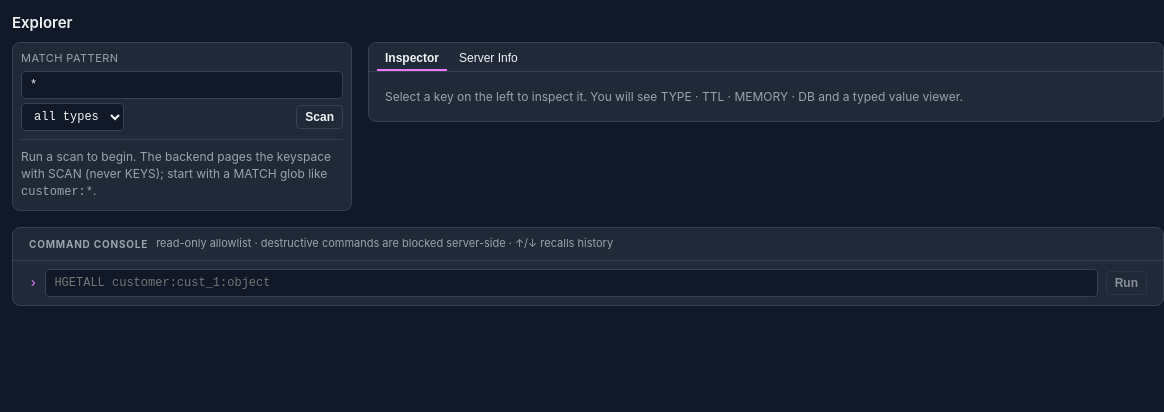
Test: command console (no force, no escalation, no live feed) › runs an allowlisted command and renders its result honestly
In the field with test id "explorer-command-input": (572, 283) [45, 269, 1098, 297], type "PING"
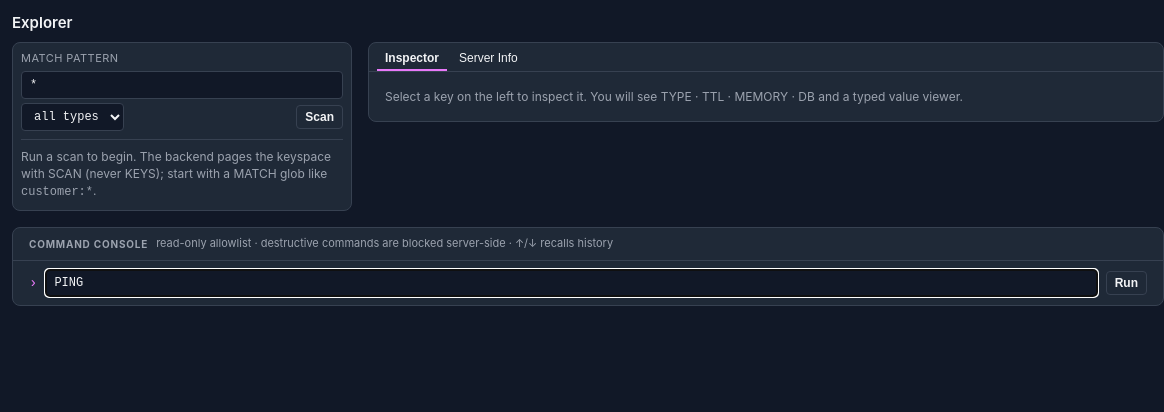
Click the button with test id "explorer-command-run": (1126, 283) [1106, 271, 1147, 295]
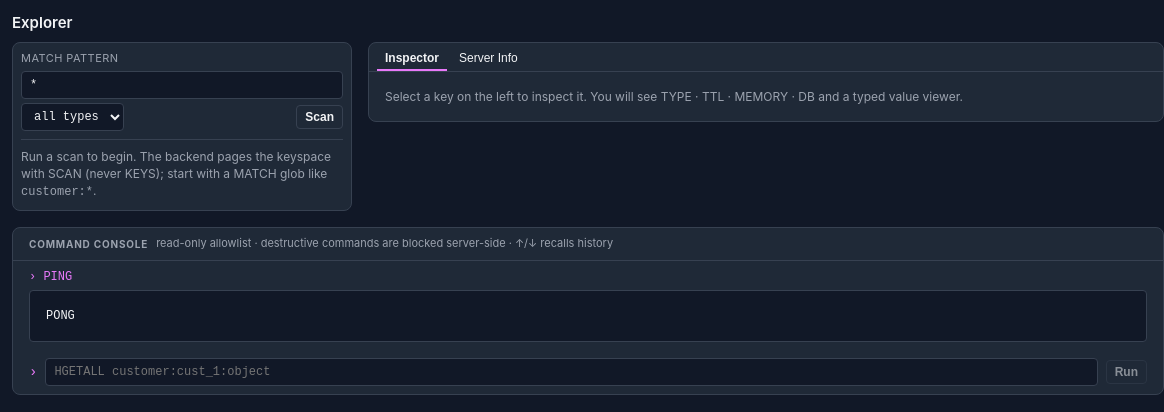
Expected: the text with test id "explorer-console-result" reads "PONG", [46, 309, 75, 323]
